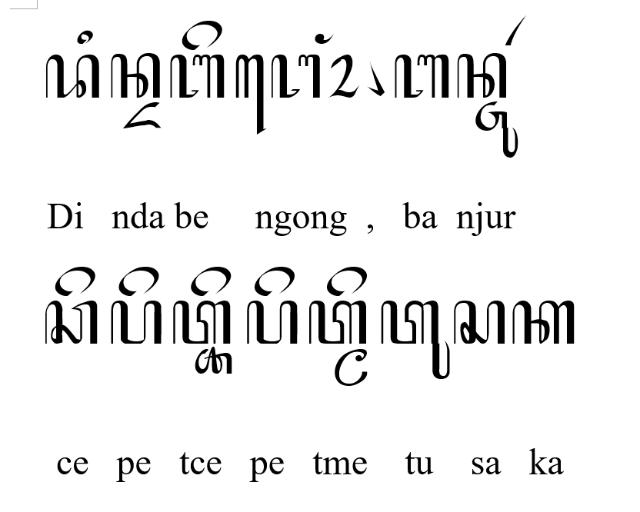_c: (194, 347, 232, 375)
_d: (123, 101, 161, 129)
_ju: (476, 101, 518, 159)
_m: (334, 348, 368, 386)
_r1: (505, 14, 527, 46)
b: (169, 53, 225, 99), (394, 54, 448, 98)
c: (44, 300, 98, 344)
d: (44, 54, 100, 98)
e: (54, 266, 96, 296), (190, 266, 232, 296), (182, 20, 222, 50), (119, 266, 159, 296), (327, 266, 367, 296)
e1: (236, 55, 266, 135), (253, 266, 294, 296)
i: (76, 30, 94, 44)
k: (512, 300, 574, 344)
kom: (367, 60, 385, 96)
n: (110, 52, 162, 98), (456, 53, 506, 99)
ng: (316, 32, 334, 44)
nga: (271, 55, 321, 99)
o: (328, 54, 360, 98)
p: (110, 300, 162, 344), (246, 300, 298, 344)
s: (452, 300, 506, 344)
t: (308, 300, 368, 346), (172, 301, 232, 345)
tu: (380, 300, 450, 380)
